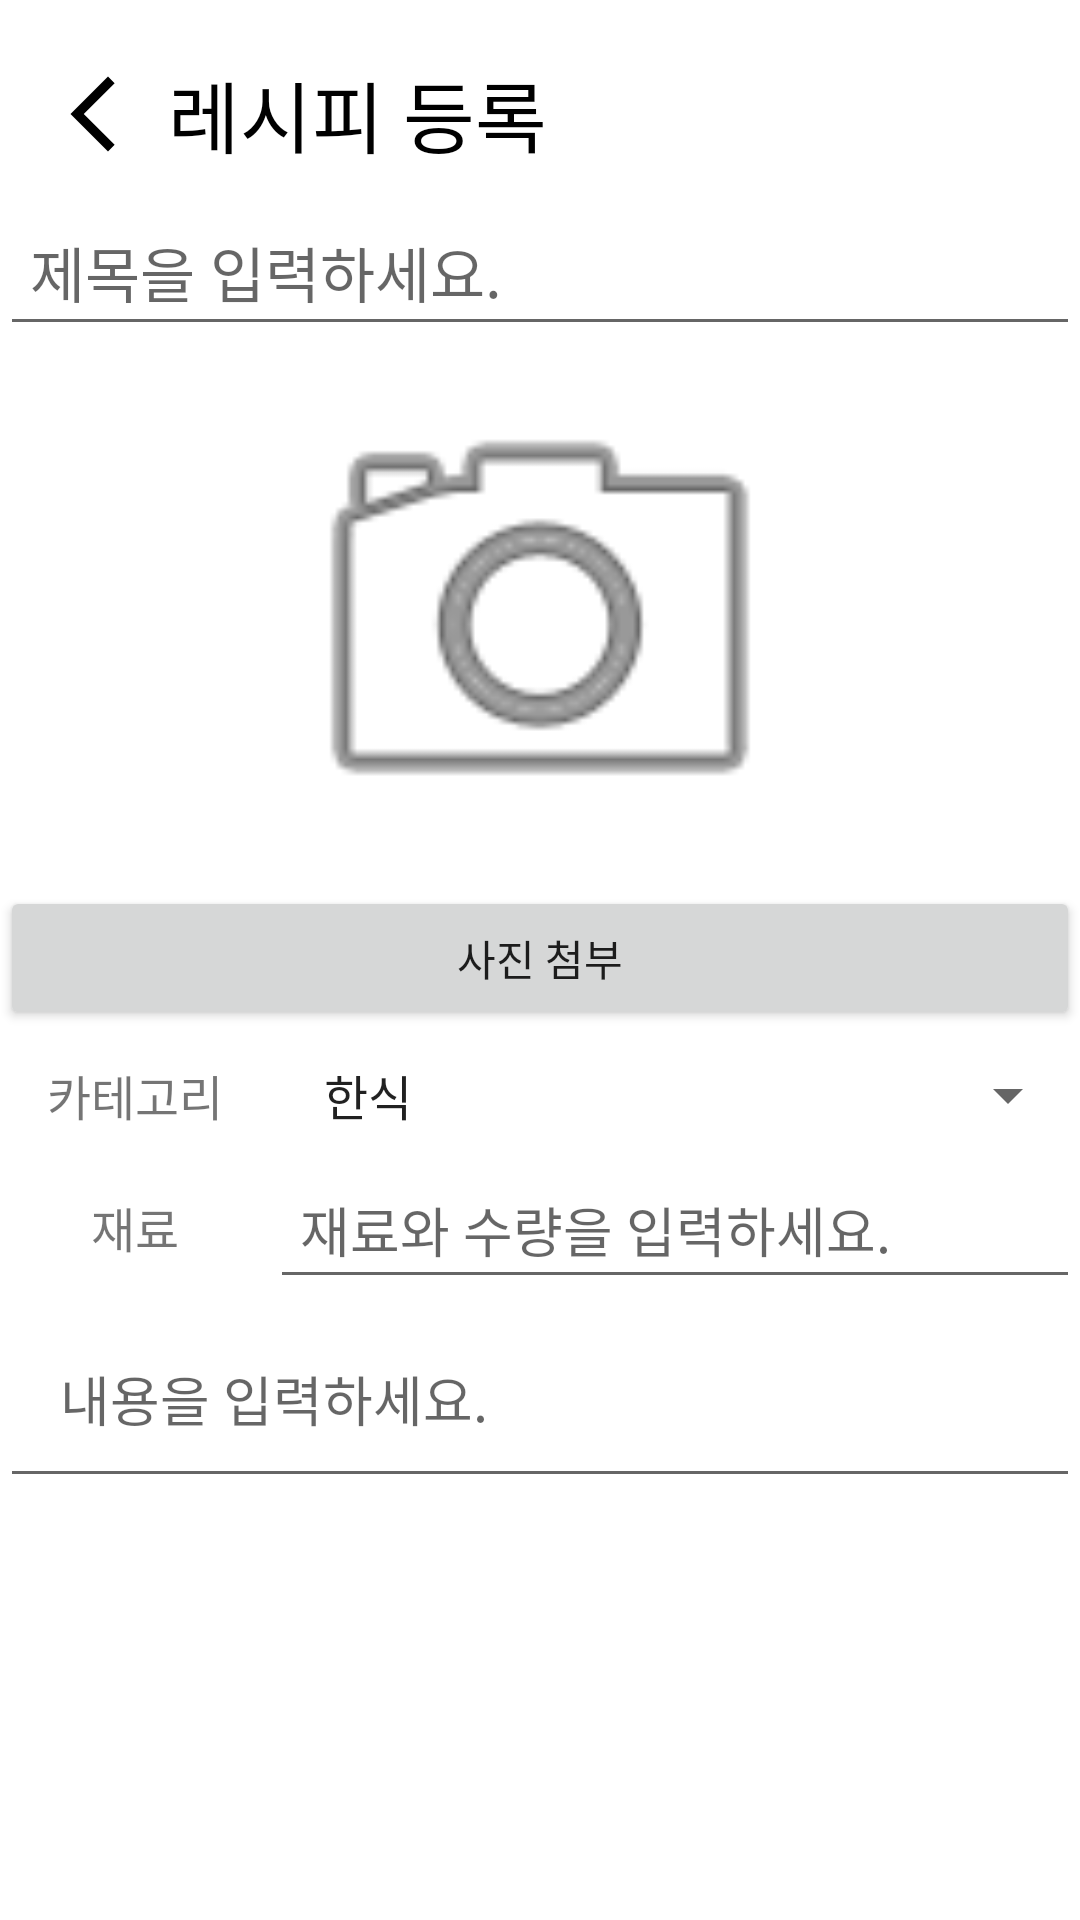

Screen size 1080 x 1920. Icon name, then its center in pixels as (x,y):
back: (92,114)
